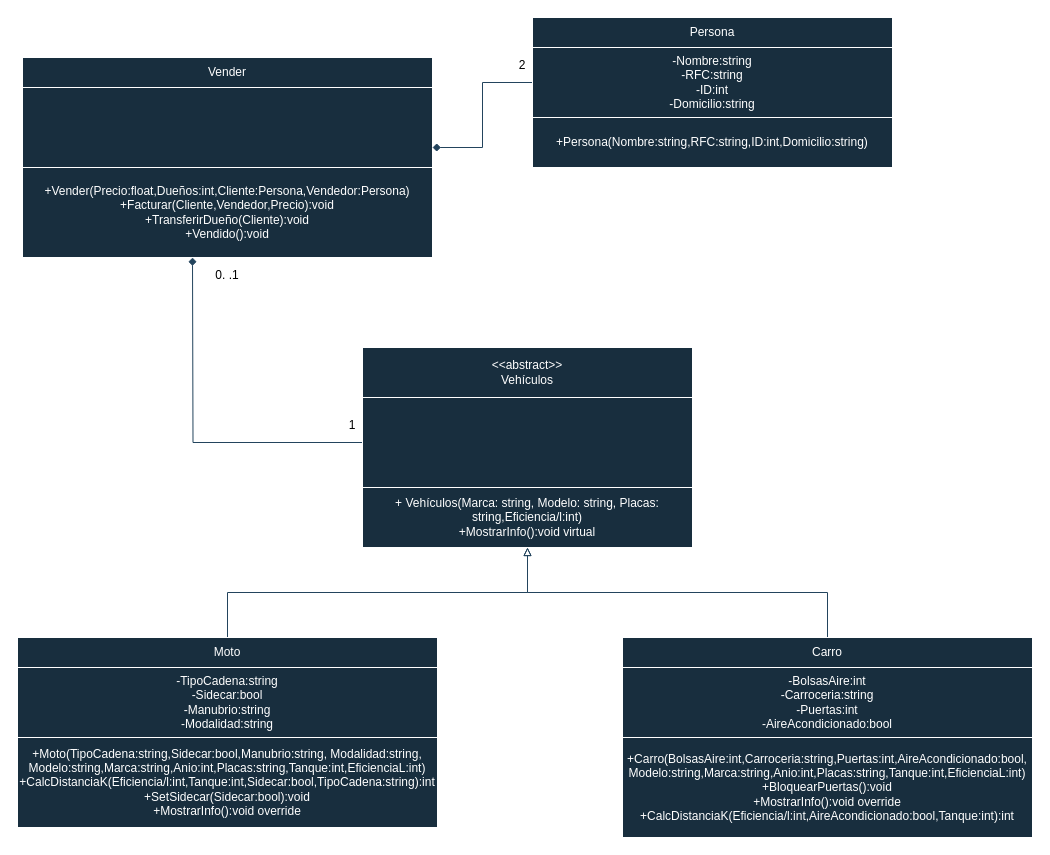
The diagram is 1050 pixels wide and 855 high, and some of its shapes have lost their labels. Each missing label, with the box of its shape:
#Modelo: string #Anio:int #Placas:string #Tanque:int #EficienciaL:int: (362, 396, 692, 488)
Vehículo:Vehículos -Precio:float -Dueños:int -Cliente:Persona -Vendedor:Persona: (22, 86, 432, 168)
